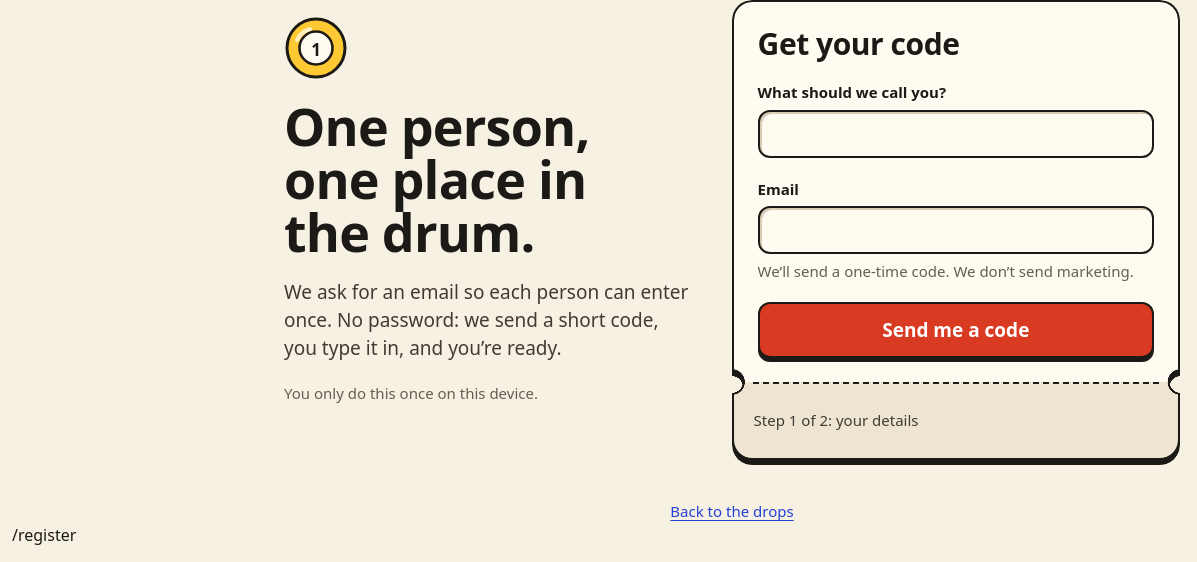
code step › moves focus to the code field and announces that a code was sent
Type "Asha" into the field labelled "What should we call you?" at (956, 134), box [758,110,1154,158]
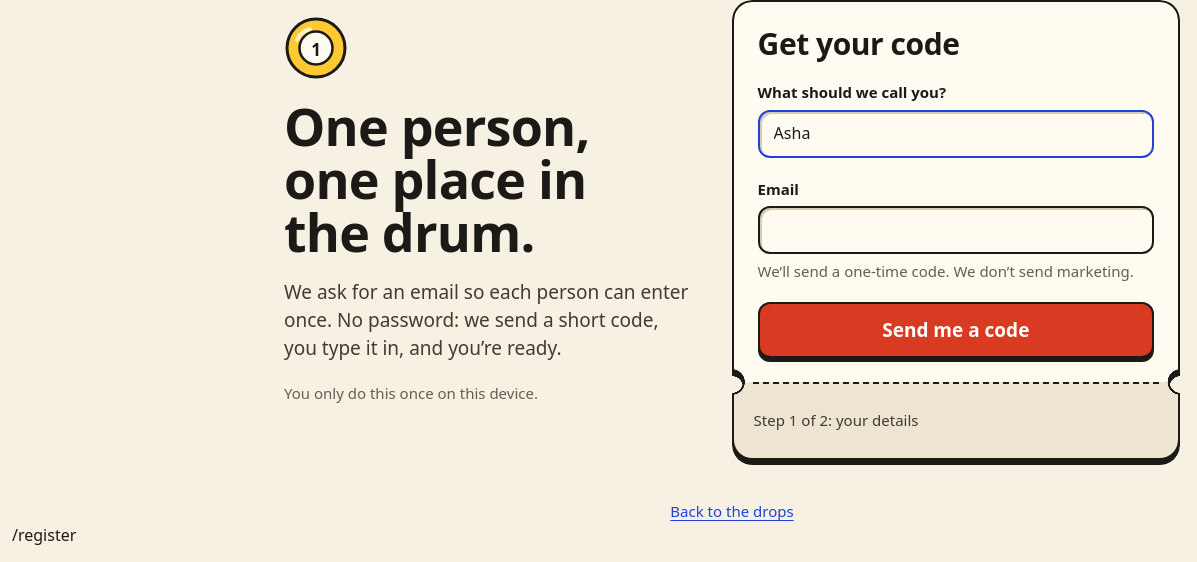
Type "asha@example.com" into the field labelled "Email" at (956, 230), box [758,206,1154,254]
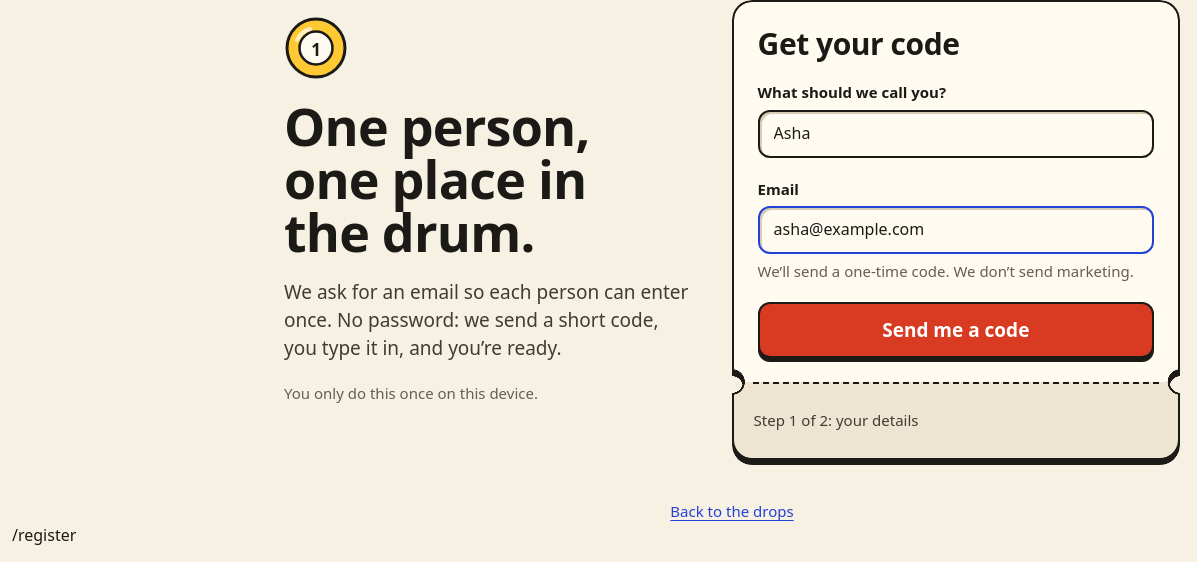
Click the button "Send me a code" at (956, 330), box [758,302,1154,358]
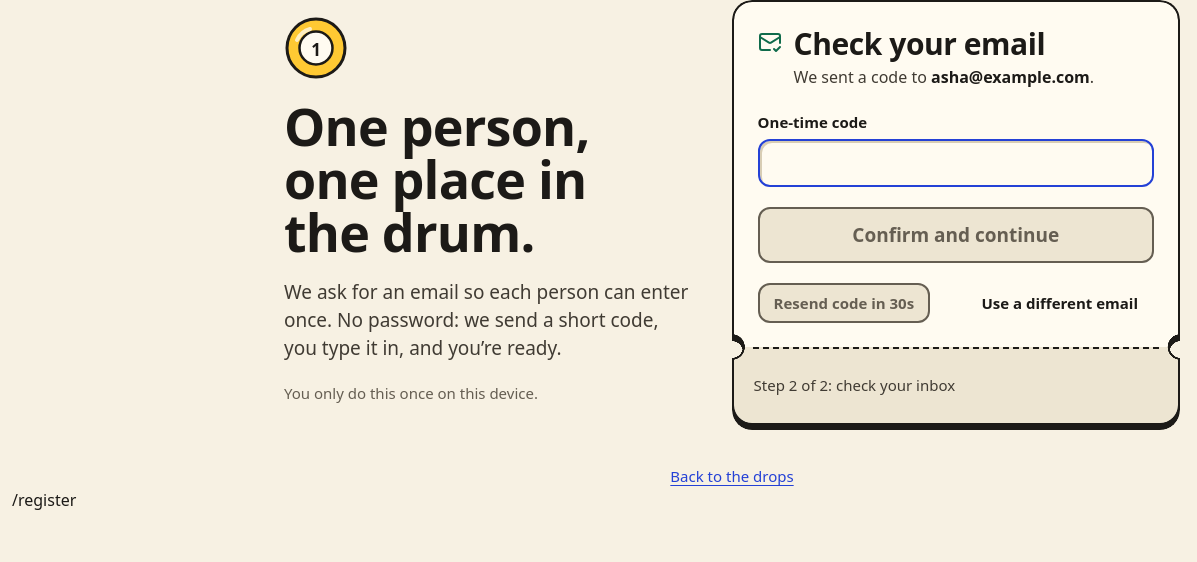
Now the heading "Check your email" is shown, box [794,23,1045,64]
